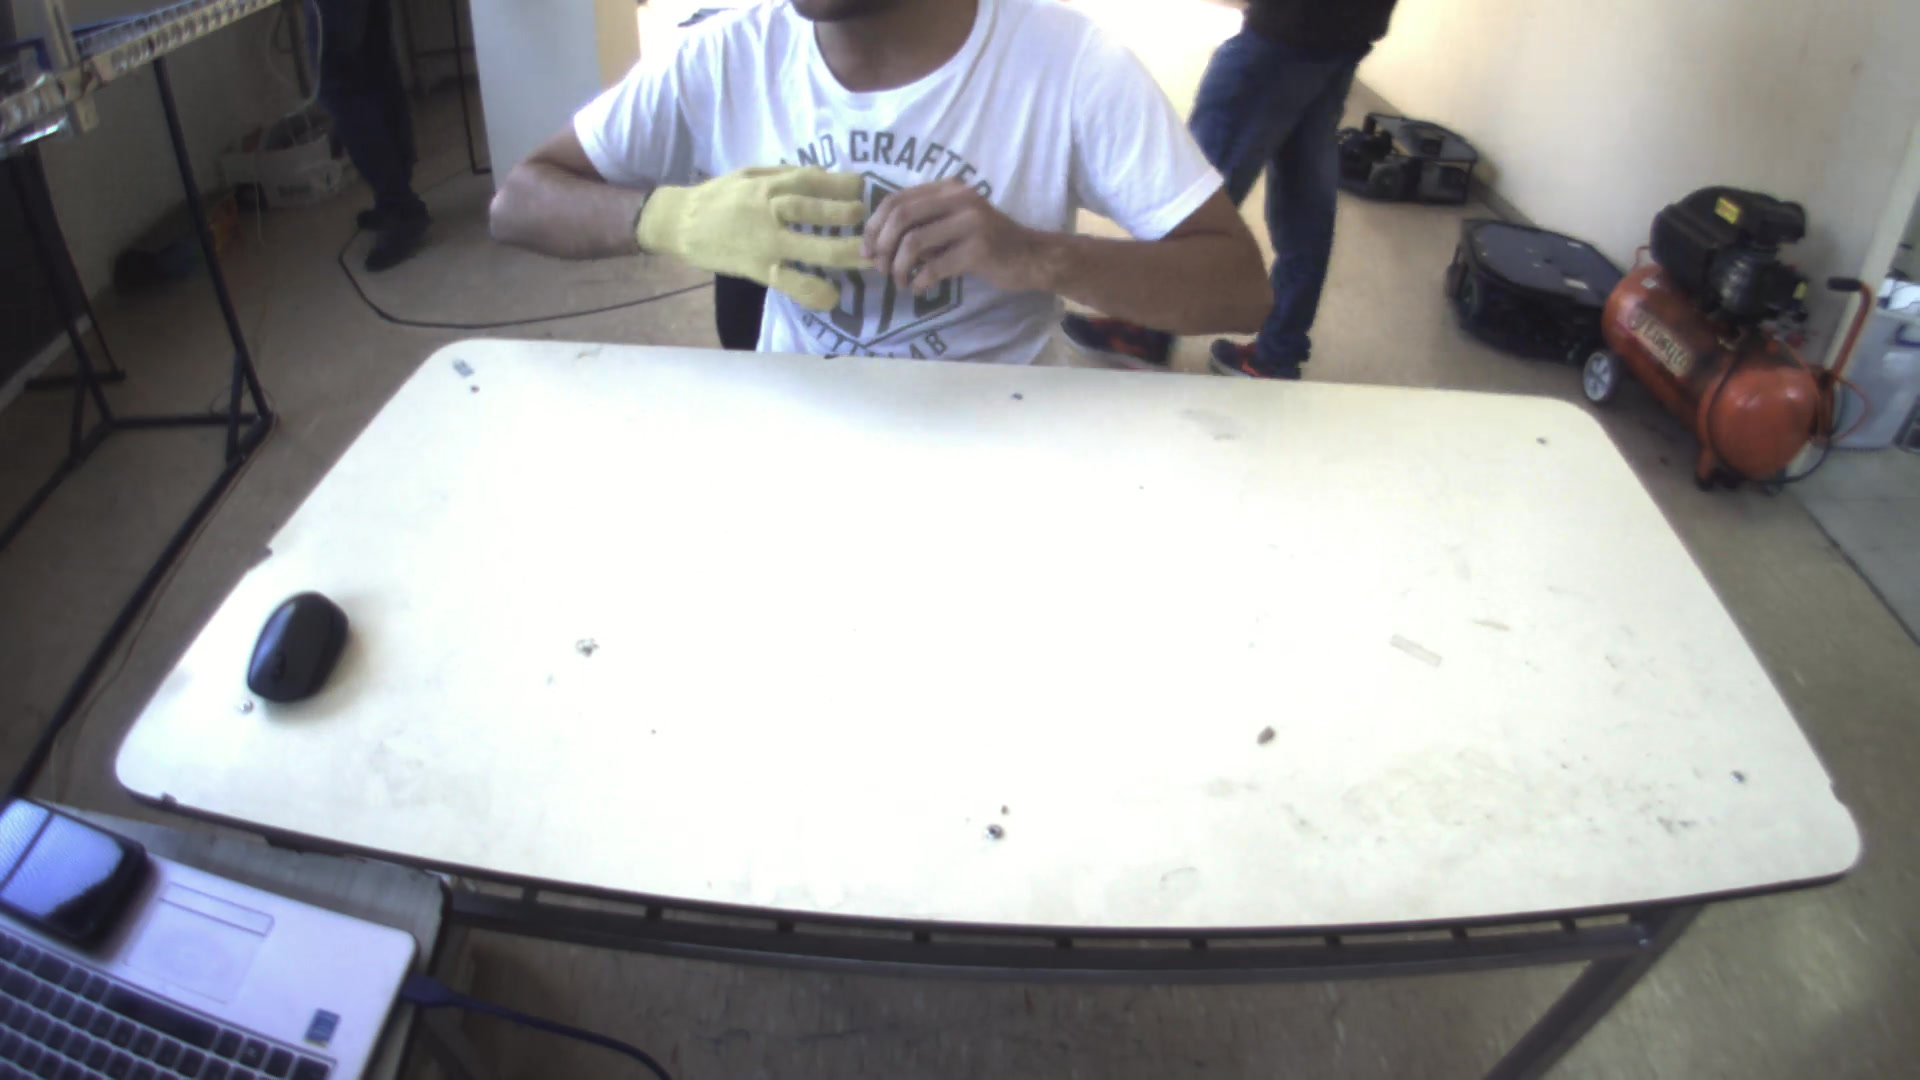hand: (632, 142, 880, 306), (858, 161, 1046, 295)
